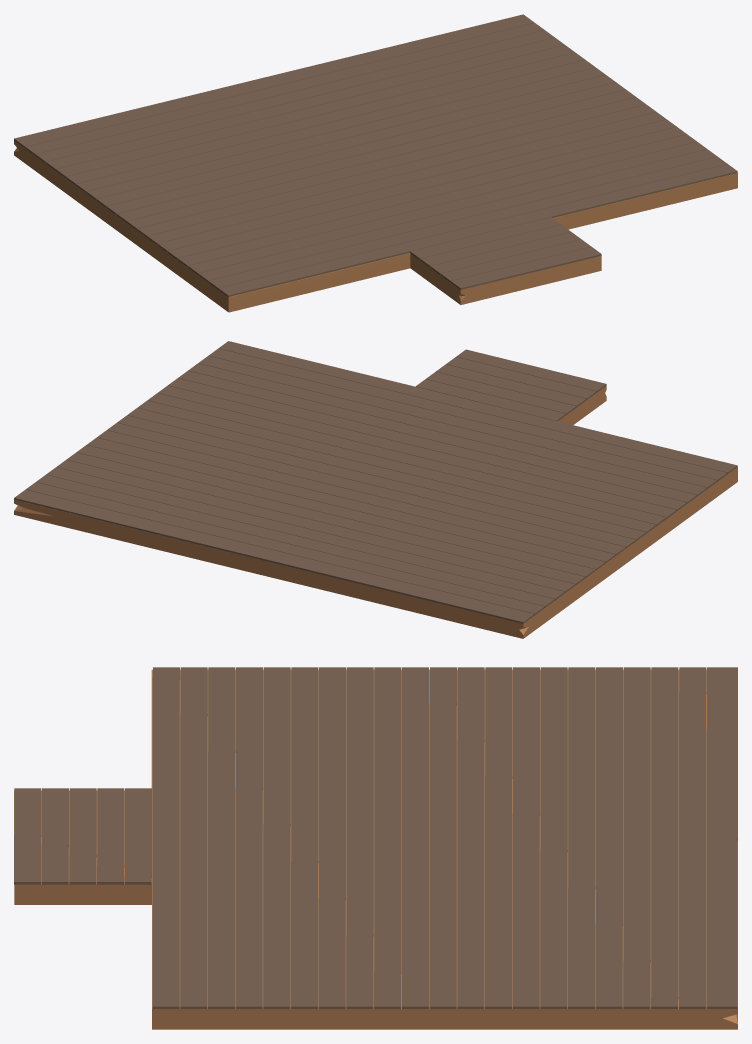
Rendered from Platform_8.fbx.
3 views of the same model, one above another, from view 1: azimuth 30°, elevation 25°; view 2: azimuth 150°, elevation 25°; view 3: azimuth 270°, elevation 25° (orthographic). The views are drawn at different scales.
Parts seen in each view (by area): view 1: Platform_8; view 2: Platform_8; view 3: Platform_8.
Part boxes in pixels (left/top/right/bottom): Platform_8: left=14, top=14, right=737, bottom=312; Platform_8: left=14, top=341, right=737, bottom=638; Platform_8: left=14, top=667, right=737, bottom=1029.
Size of the model in its own units: 1040 by 938 by 32.89.
